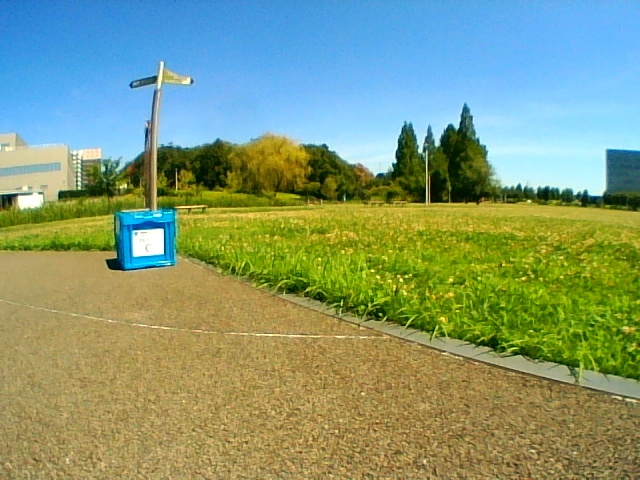blue_box: (117, 211, 174, 265)
tag: (134, 231, 162, 256)
